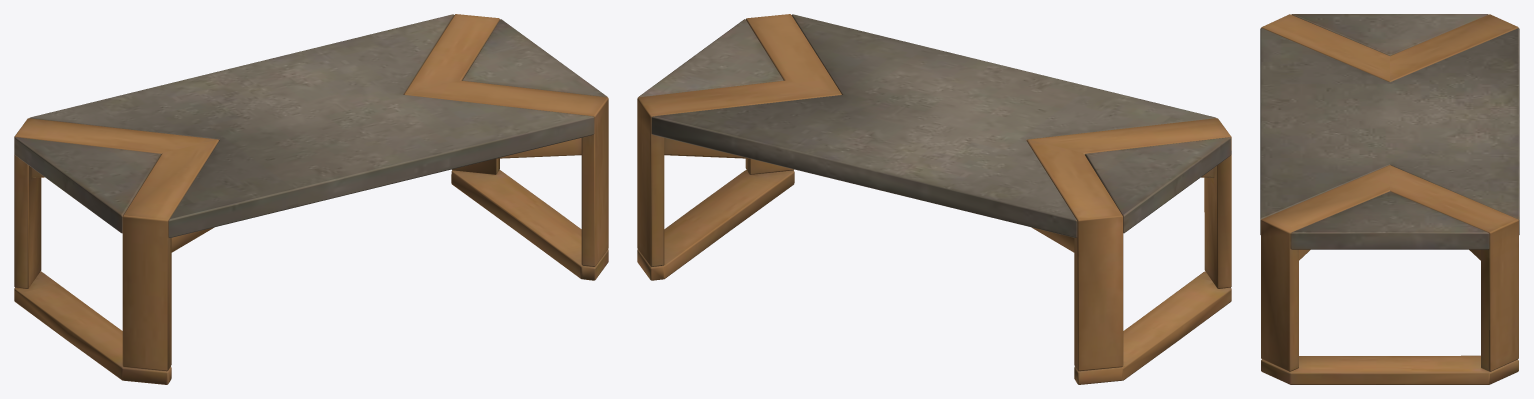
The model's file is ph-coffee-table-stone-low.glb.
3 views of the same model, side by side, from view 1: azimuth 30°, elevation 25°; view 2: azimuth 150°, elevation 25°; view 3: azimuth 270°, elevation 25° (orthographic). The views are drawn at different scales.
Parts seen in each view (by area): view 1: modern_coffee_table_01; view 2: modern_coffee_table_01; view 3: modern_coffee_table_01.
Boxes of the visible parts, x1,y1,x2,y2 form: modern_coffee_table_01: (14, 14, 608, 384); modern_coffee_table_01: (637, 14, 1231, 384); modern_coffee_table_01: (1260, 14, 1519, 384).
Size of the model in its own units: 1.2 by 0.39 by 0.6.
1 material, 1 textured.
